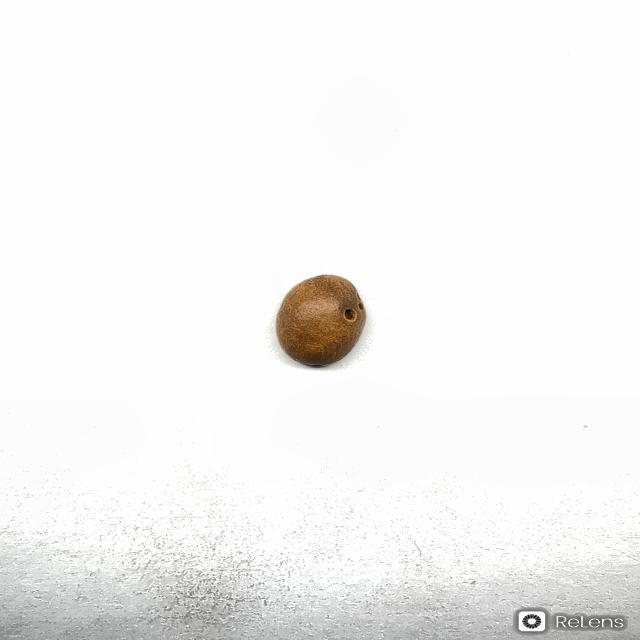Insect damage: (274, 273, 367, 366)
